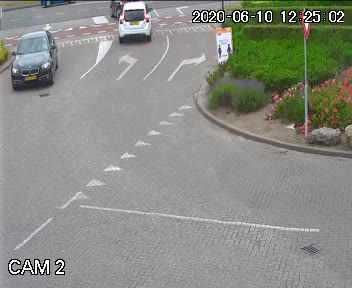car: (0, 24, 58, 105), (115, 0, 154, 45)
